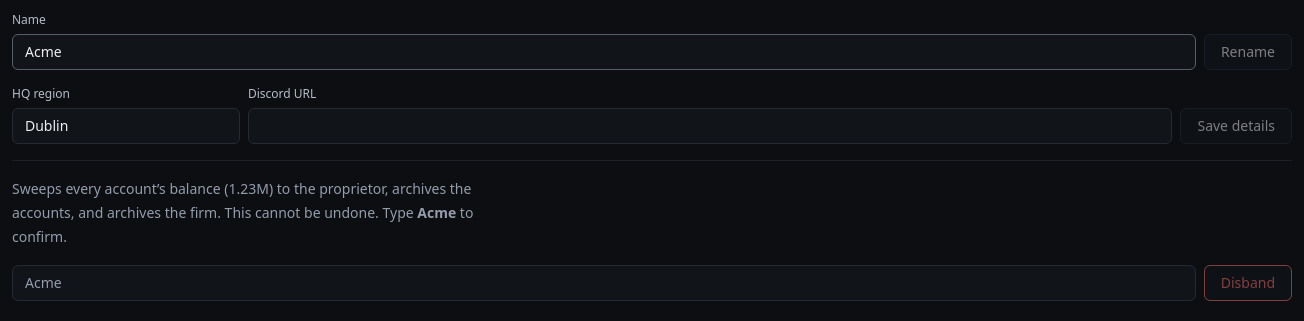
Test: FirmAdminPanel as admin › requires the exact firm name before disbanding
Expected: the button "Disband" is disabled, [1204,265,1292,301]
Type "acme" into the field named "Type firm name to confirm" at (604, 283), box [12,265,1196,301]
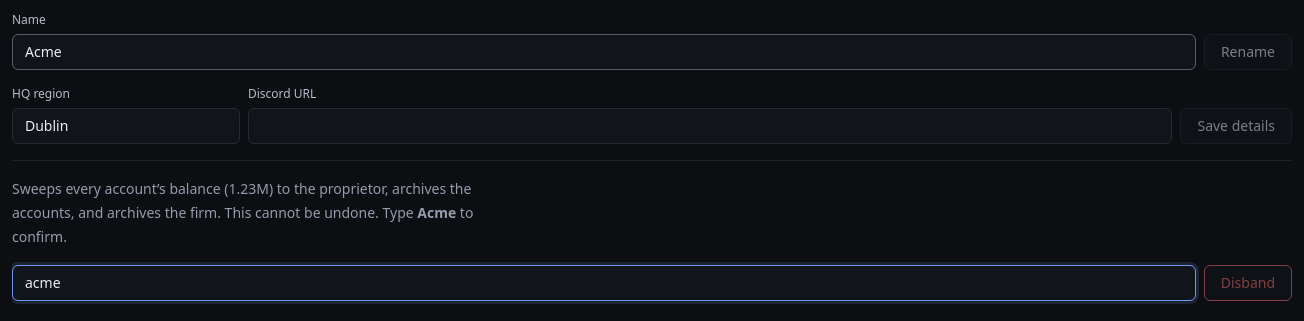
Expected: the button "Disband" is disabled, [1204,265,1292,301]
Replace the text in the field named "Type firm name to confirm" with "  Acme  " at (604, 283), box [12,265,1196,301]
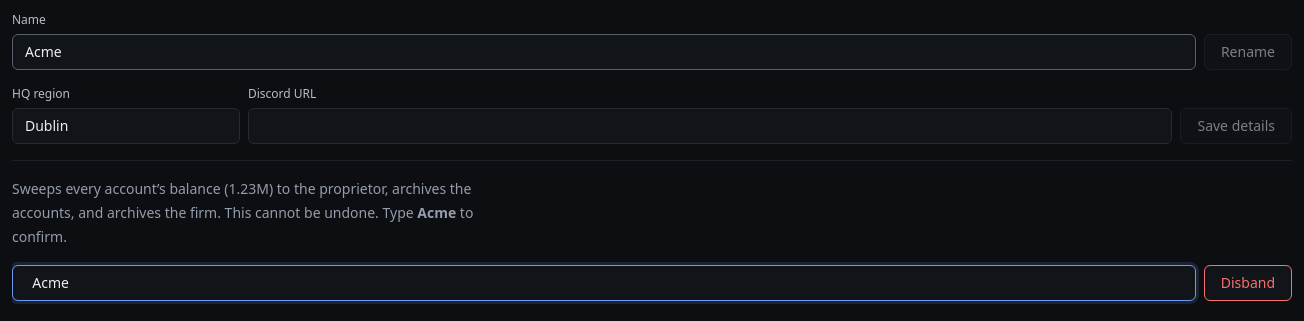
Result: the button "Disband" is enabled at [1204,265,1292,301]
